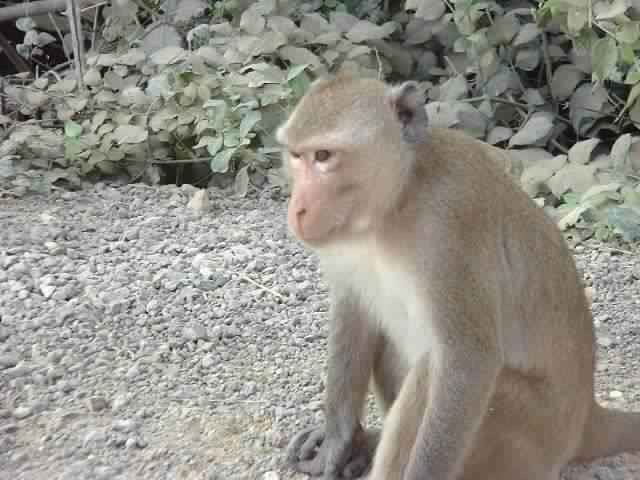Monkey: (280, 71, 626, 479)
